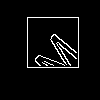M: (25, 25, 83, 86)
